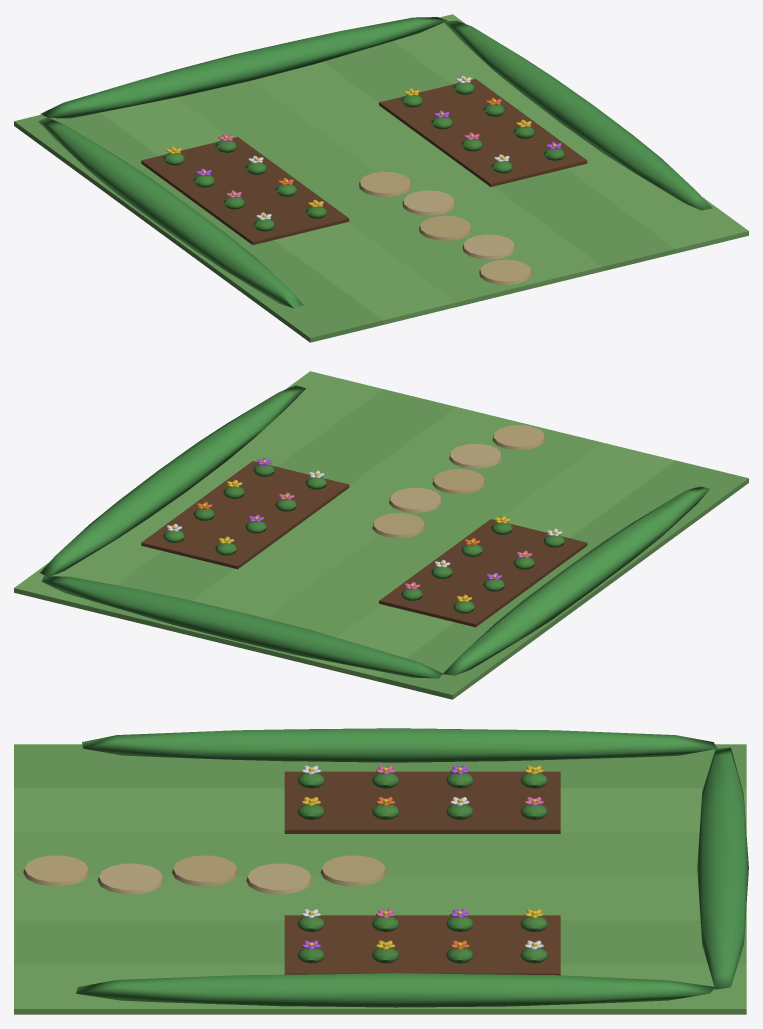
Rendered from garden-plot-hd.glb.
3 views of the same model, one above another, from view 1: azimuth 30°, elevation 25°; view 2: azimuth 150°, elevation 25°; view 3: azimuth 270°, elevation 25° (orthographic). The views are drawn at different scales.
Parts seen in each view (by area): view 1: garden-plot-hd; view 2: garden-plot-hd; view 3: garden-plot-hd.
Boxes of the visible parts, x1,y1,x2,y2 form: garden-plot-hd: [14, 14, 748, 342]; garden-plot-hd: [14, 371, 748, 699]; garden-plot-hd: [14, 728, 748, 1014].
Size of the model in its own units: 5.94 by 0.2943 by 6.92.
